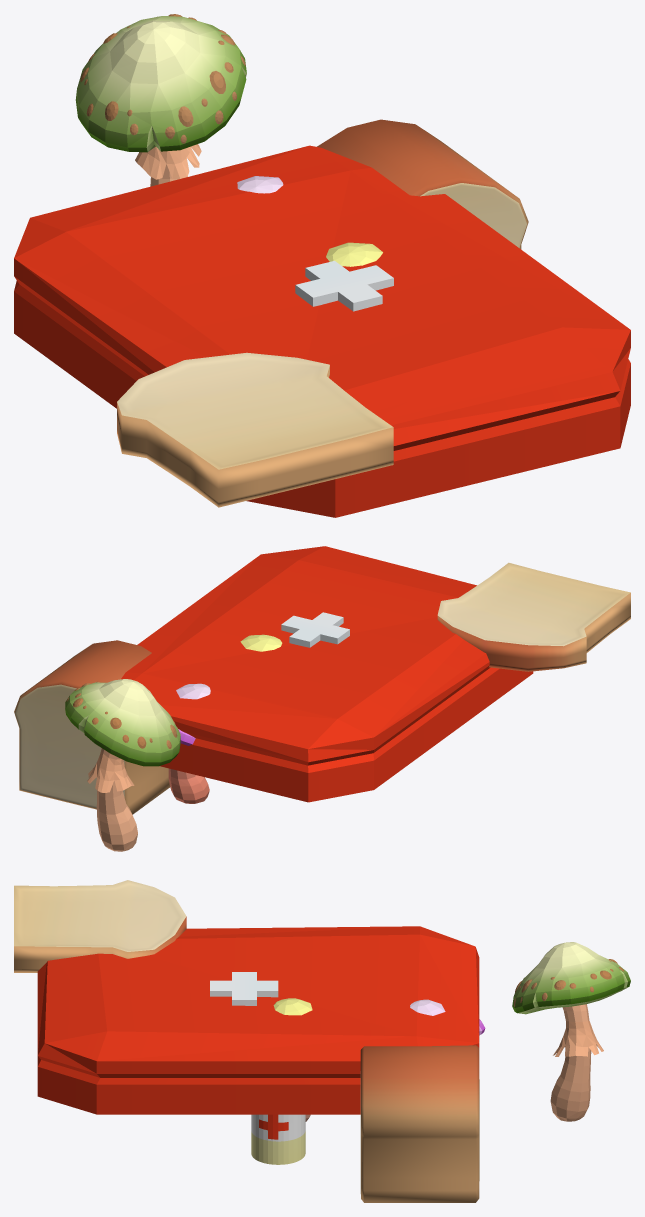
File: Health.fbx
The picture shows the model from 3 angles, top to bottom: view 1: azimuth 30°, elevation 25°; view 2: azimuth 150°, elevation 25°; view 3: azimuth 270°, elevation 25°; orthographic projection. The views are drawn at different scales.
Visible parts, largest first — view 1: Cruz2__0, TOAST SLICE1, transform3, TOAST1, transform1; view 2: Cruz2__0, TOAST SLICE1, TOAST1, transform3, transform6, transform1; view 3: Cruz2__0, TOAST1, TOAST SLICE1, transform3, Bandage1, transform1, transform6.
Boxes of the visible parts, x1,y1,x2,y2 form: Cruz2__0: (14,145,630,517); TOAST SLICE1: (117,352,393,507); transform3: (75,14,246,186); TOAST1: (317,119,528,249); transform1: (326,242,382,266); Cruz2__0: (121,546,533,802); TOAST SLICE1: (437,562,630,671); TOAST1: (14,640,170,814); transform3: (65,679,180,851); transform6: (168,683,210,803); transform1: (240,634,282,651); Cruz2__0: (37,926,479,1114); TOAST1: (360,1045,479,1202); TOAST SLICE1: (14,880,186,972); transform3: (512,942,630,1121); Bandage1: (251,1114,305,1164); transform1: (273,998,312,1121); transform6: (410,999,485,1035).
Bounding box in the file's own units: 24.1 × 11.29 × 31.63.
Materials: 5 (5 with a texture image).
